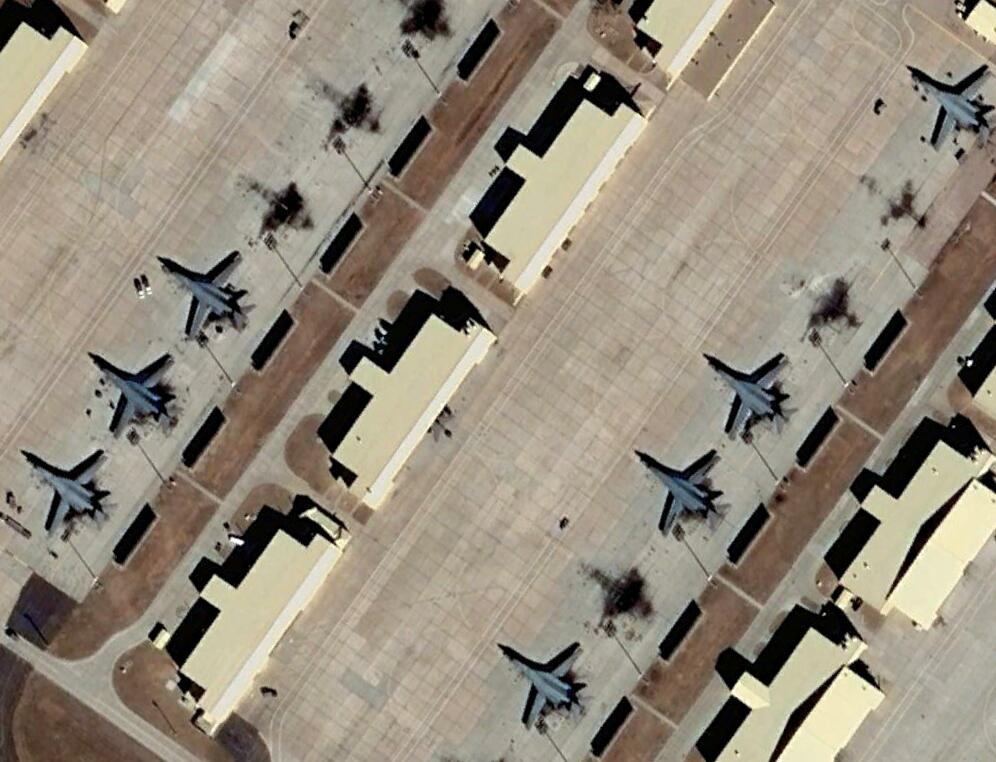A10: (156, 250, 262, 345), (634, 447, 734, 540), (698, 348, 796, 441), (496, 639, 591, 733), (83, 349, 185, 435), (903, 57, 996, 150), (22, 448, 117, 535)
